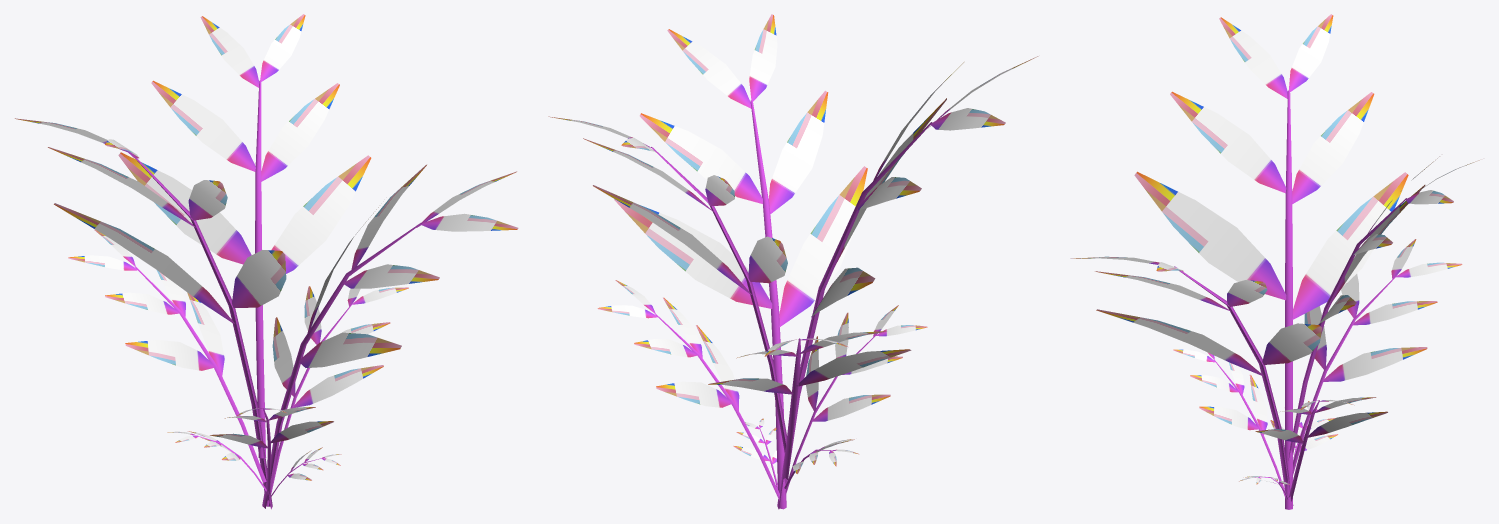
Rendered from Palm.fbx.
3 views of the same model, side by side, from view 1: azimuth 30°, elevation 25°; view 2: azimuth 150°, elevation 25°; view 3: azimuth 270°, elevation 25° (orthographic). The views are drawn at different scales.
Visible parts, largest first — view 1: Palm; view 2: Palm; view 3: Palm.
Boxes of the visible parts, left/top/right/bottom form: Palm: left=15, top=14, right=518, bottom=509; Palm: left=548, top=14, right=1038, bottom=509; Palm: left=1070, top=14, right=1479, bottom=509.
Bounding box in the file's own units: 178 × 184 × 173.
